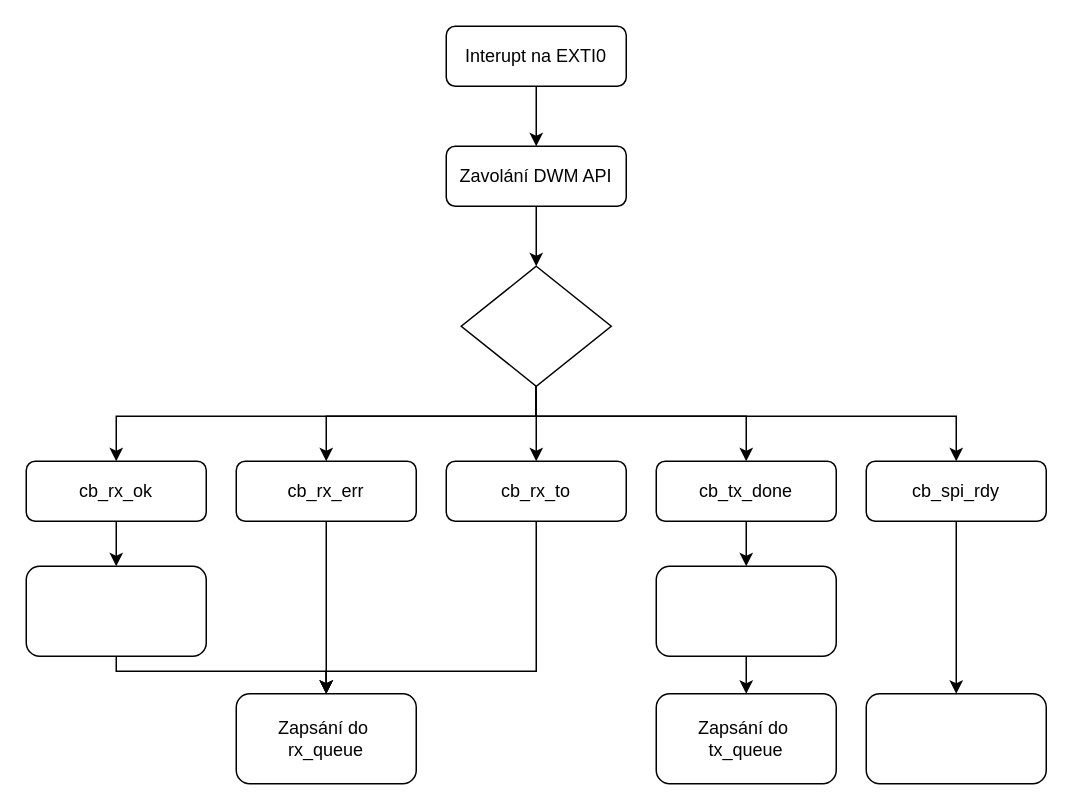
Image size: 1073x810. Some labels were removed from this diagram. The shapes that lost their labels are listed below. From the top down, each one's centre as x and y in pixels, then its label:
[535,325]: Interní logika API
[115,610]: Přečtení přijatých dat Přečtení času přijetí Přečtení síly signálu
[745,610]: Přečtení času odeslání
[955,738]: Zapsání do wakeup_queue
